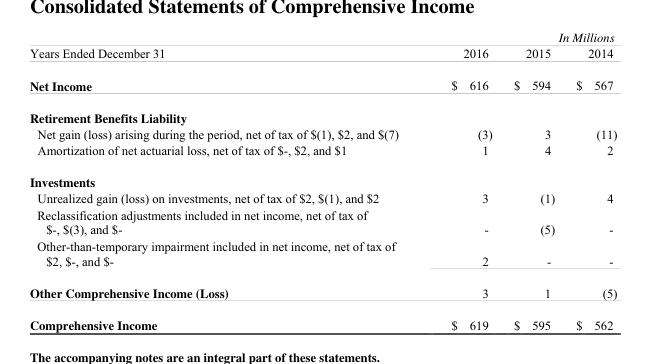table: (28, 29, 616, 333)
table column: (28, 29, 424, 333), (424, 29, 502, 333), (555, 29, 616, 333), (502, 29, 555, 333)
table column header: (28, 29, 616, 68)
table projected row header: (28, 164, 616, 190), (28, 101, 616, 126)
table row: (28, 29, 616, 68), (28, 237, 616, 275), (28, 68, 616, 101), (28, 275, 616, 308), (28, 206, 616, 237), (28, 164, 616, 190), (28, 101, 616, 126), (28, 308, 616, 333), (28, 141, 616, 164), (28, 190, 616, 206), (28, 126, 616, 141)
